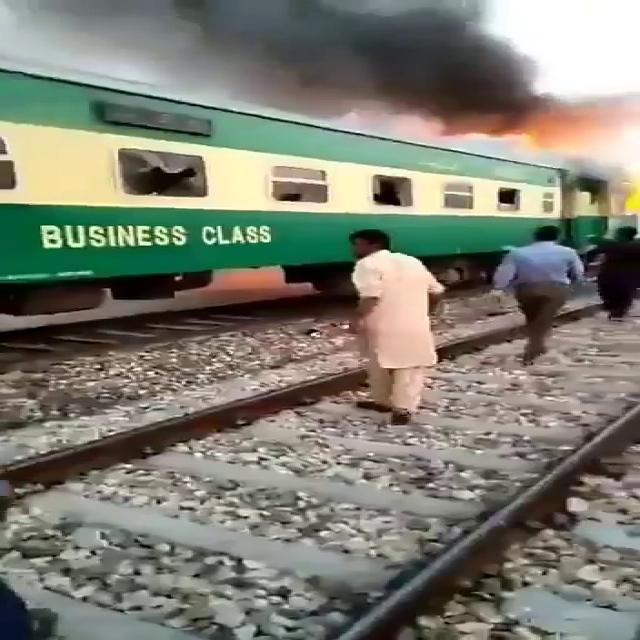Smoke: (140, 0, 625, 156)
